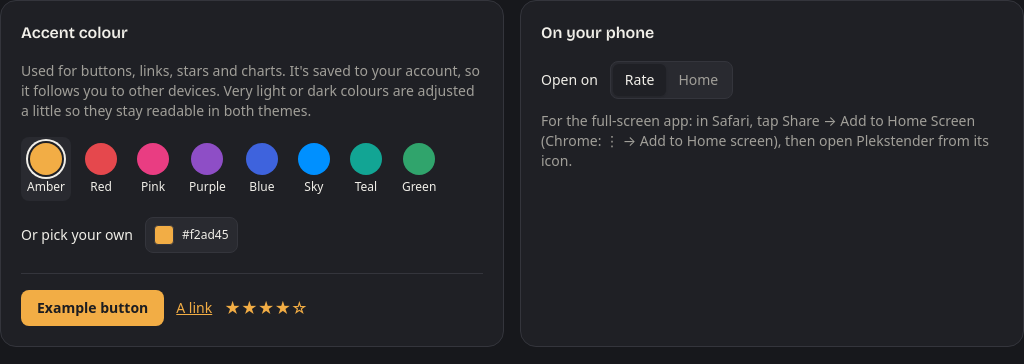
Test case: AppearancePage › saves the chosen accent colour to the account and applies it
The width and height of the screenshot is (1024, 364).
Click the radio button labelled "Blue" at (262, 169), box x1=240 y1=137 x2=284 y2=201
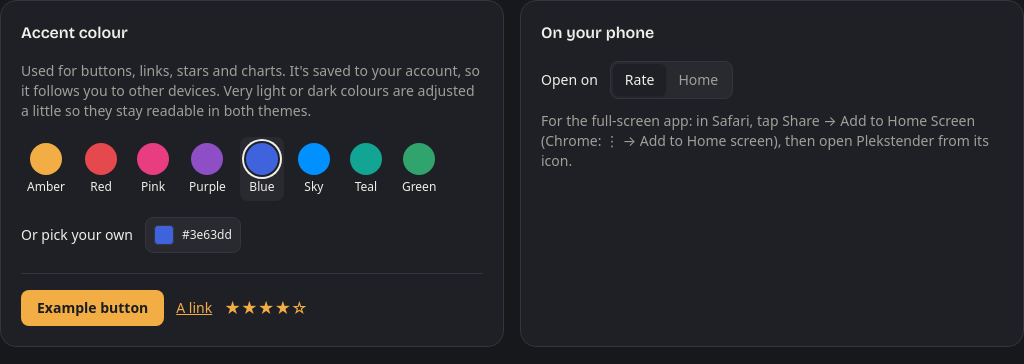
Expected: the radio button labelled "Blue" is checked, x1=240 y1=137 x2=284 y2=201
